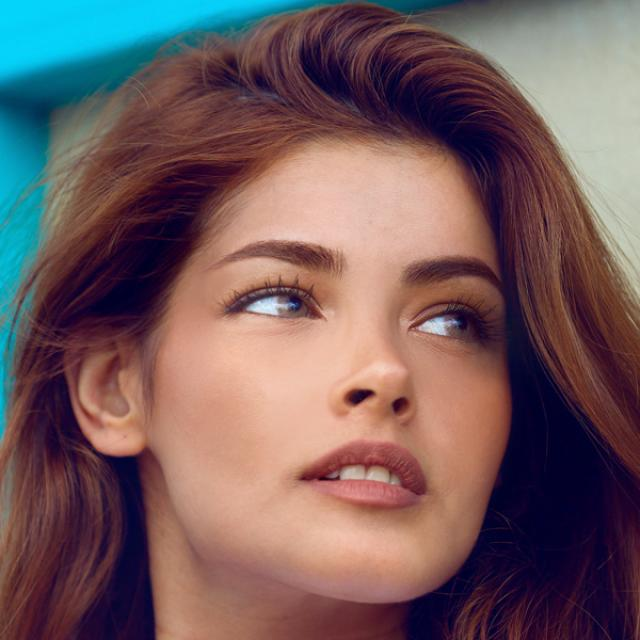face: (41, 18, 581, 611)
